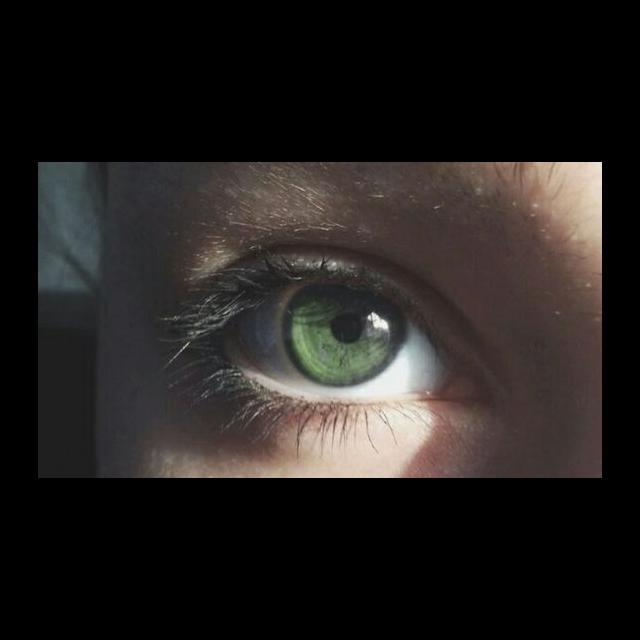eye: (235, 277, 451, 399)
iris: (287, 284, 409, 384)
